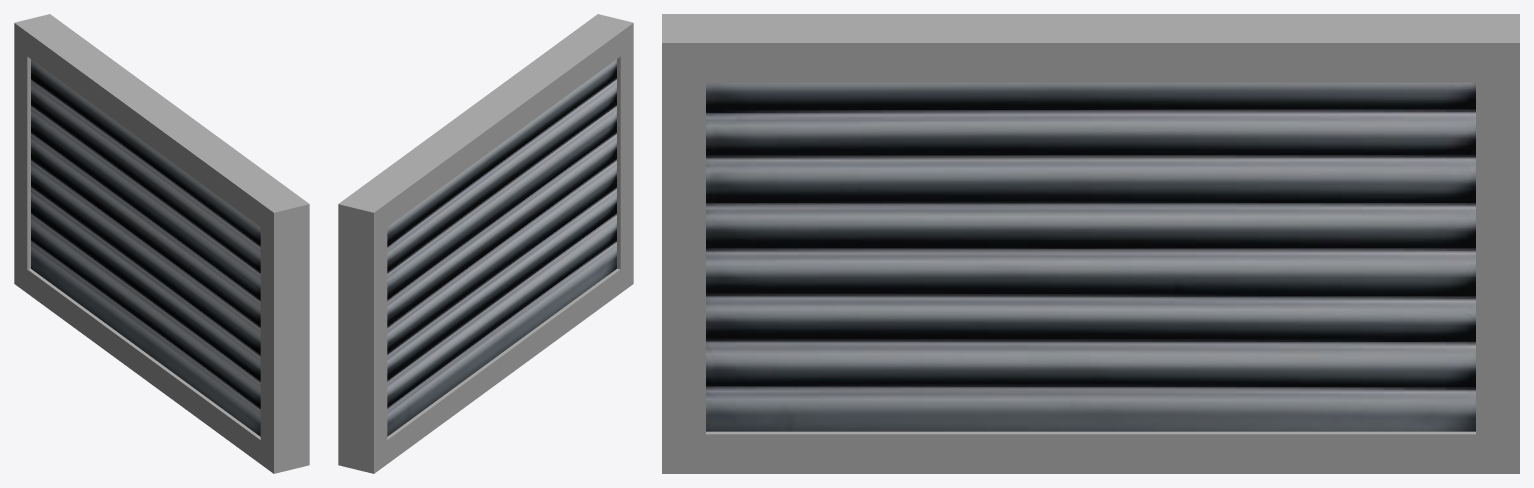
Rendered from VENT.fbx.
3 renders of one model, left to right at view 1: azimuth 30°, elevation 25°; view 2: azimuth 150°, elevation 25°; view 3: azimuth 270°, elevation 25°, orthographic. The views are drawn at different scales.
Parts seen in each view (by area): view 1: VENT; view 2: VENT; view 3: VENT.
Boxes of the visible parts, x1,y1,x2,y2 form: VENT: (14, 14, 309, 473); VENT: (338, 14, 633, 473); VENT: (662, 14, 1519, 473).
Bounding box in the file's own units: 62.65 × 436 × 786.
